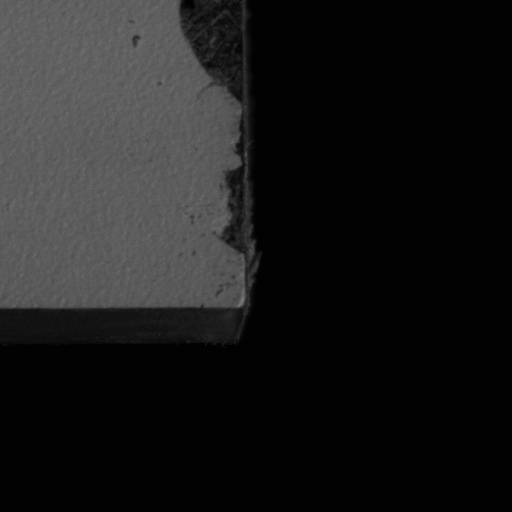bengque: (176, 3, 248, 103), (214, 140, 249, 257)
